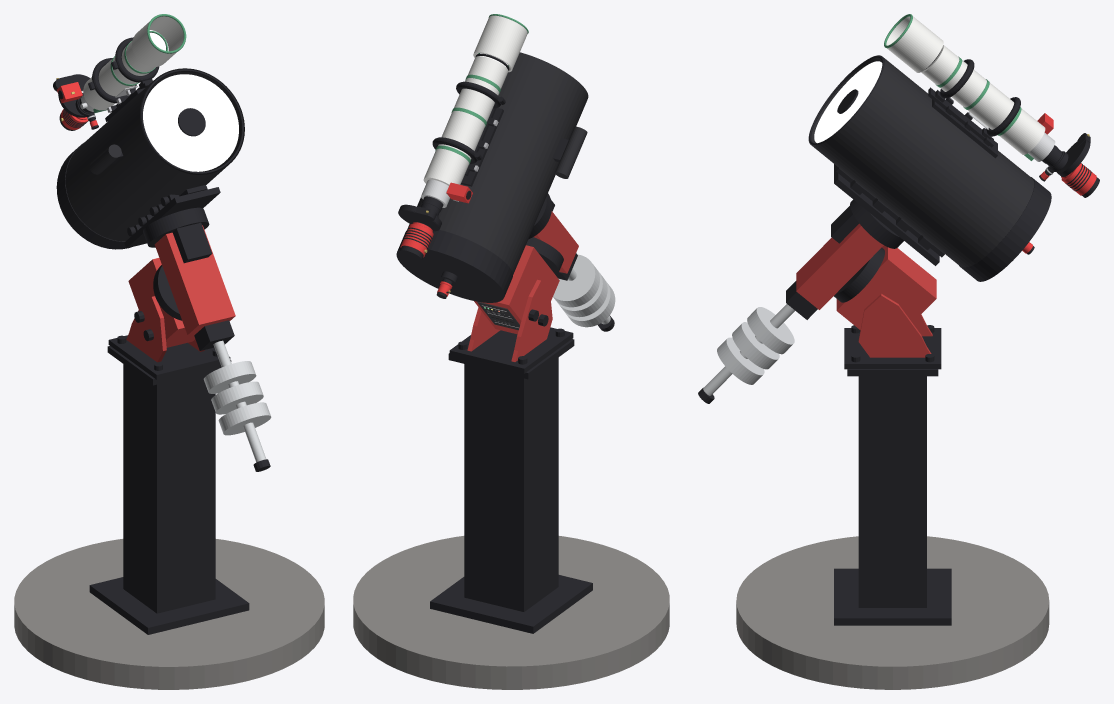
The model's file is paramount-me.glb.
3 views of the same model, side by side, from view 1: azimuth 30°, elevation 25°; view 2: azimuth 150°, elevation 25°; view 3: azimuth 270°, elevation 25° (orthographic).
Parts seen in each view (by area): view 1: ObsPad, PierColumn, C14_Tube, C14_Corrector, ME_UpperHousing, PierBaseFlange, ME_BasePlate, FSQ_Tube, FSQ_DewShield, ME_LatPlate_L, ME_LowerBody, C14_RearCell (+14 smaller); view 2: ObsPad, PierColumn, C14_Tube, C14_RearCell, FSQ_Tube, PierBaseFlange, ME_BasePlate, ME_LowerBody, FSQ_DewShield, ME_LatPlate_L, ME_Counterweight_0, ME_UpperHousing (+10 smaller); view 3: ObsPad, C14_Tube, PierColumn, PierBaseFlange, FSQ_Tube, ME_LowerBody, ME_UpperHousing, ME_LatPlate_R, C14_RearCell, C14_Corrector, FSQ_DewShield, ME_BasePlate (+8 smaller).
Boxes of the visible parts, x1=… form: ObsPad: x1=14, y1=539, x2=324, y2=689; PierColumn: x1=123, y1=364, x2=215, y2=613; C14_Tube: x1=65, y1=68, x2=244, y2=241; C14_Corrector: x1=143, y1=74, x2=238, y2=171; ME_UpperHousing: x1=154, y1=225, x2=235, y2=334; PierBaseFlange: x1=89, y1=577, x2=249, y2=634; ME_BasePlate: x1=108, y1=335, x2=230, y2=379; FSQ_Tube: x1=83, y1=41, x2=155, y2=110; FSQ_DewShield: x1=132, y1=16, x2=183, y2=67; ME_LatPlate_L: x1=126, y1=296, x2=166, y2=362; ME_LowerBody: x1=128, y1=258, x2=196, y2=347; C14_RearCell: x1=56, y1=143, x2=130, y2=249; ObsPad: x1=353, y1=536, x2=669, y2=689; PierColumn: x1=464, y1=357, x2=558, y2=611; C14_Tube: x1=407, y1=52, x2=588, y2=274; C14_RearCell: x1=396, y1=229, x2=512, y2=302; FSQ_Tube: x1=423, y1=56, x2=508, y2=185; PierBaseFlange: x1=430, y1=575, x2=592, y2=633; ME_BasePlate: x1=449, y1=327, x2=573, y2=373; ME_LowerBody: x1=474, y1=245, x2=559, y2=334; FSQ_DewShield: x1=473, y1=15, x2=527, y2=72; ME_LatPlate_L: x1=511, y1=279, x2=552, y2=361; ME_Counterweight_0: x1=553, y1=254, x2=599, y2=307; ME_UpperHousing: x1=534, y1=211, x2=578, y2=273; ObsPad: x1=736, y1=536, x2=1049, y2=689; C14_Tube: x1=808, y1=55, x2=1034, y2=267; PierColumn: x1=858, y1=376, x2=926, y2=607; PierBaseFlange: x1=834, y1=568, x2=951, y2=625; FSQ_Tube: x1=921, y1=45, x2=1045, y2=154; ME_LowerBody: x1=836, y1=245, x2=936, y2=329; ME_UpperHousing: x1=796, y1=223, x2=883, y2=309; ME_LatPlate_R: x1=858, y1=294, x2=931, y2=357; C14_RearCell: x1=959, y1=177, x2=1051, y2=281; C14_Corrector: x1=814, y1=61, x2=882, y2=143; FSQ_DewShield: x1=886, y1=16, x2=943, y2=72; ME_BasePlate: x1=844, y1=328, x2=941, y2=369.
Size of the model in its own units: 1.1 by 2.36 by 1.41.
